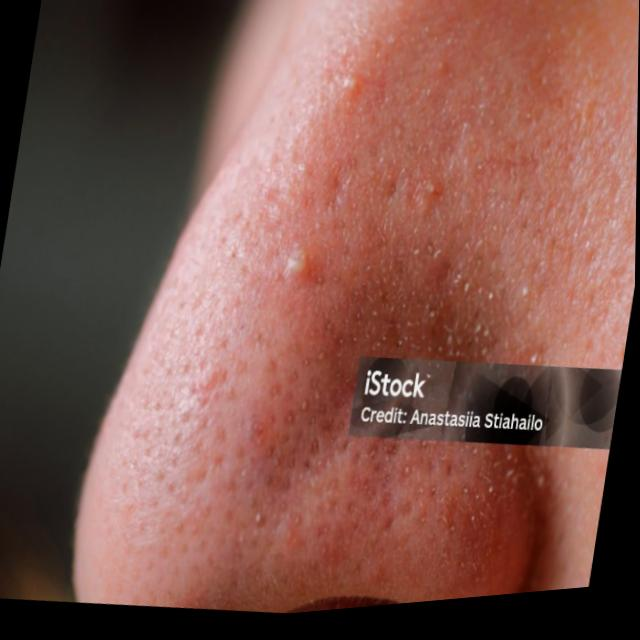whitehead: (290, 232, 551, 452), (347, 453, 566, 592)
